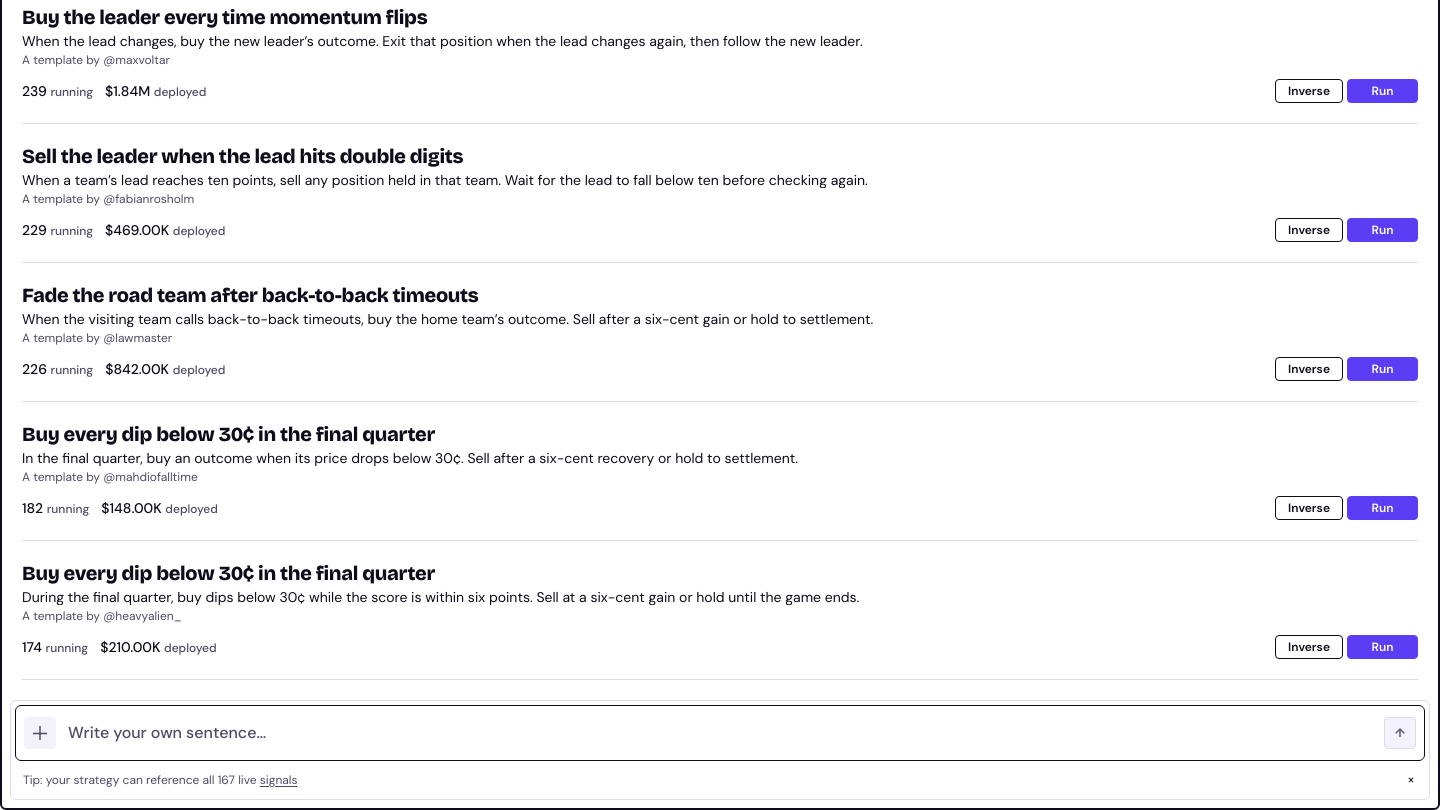
Scenario: Kyros chat › retains the user message on failure and retries without duplicating it
(page scrolled)
In the field named "Message Kyros": (720, 733) [68,724,1372,742], type "Hello"
Then press Enter
(page scrolled)
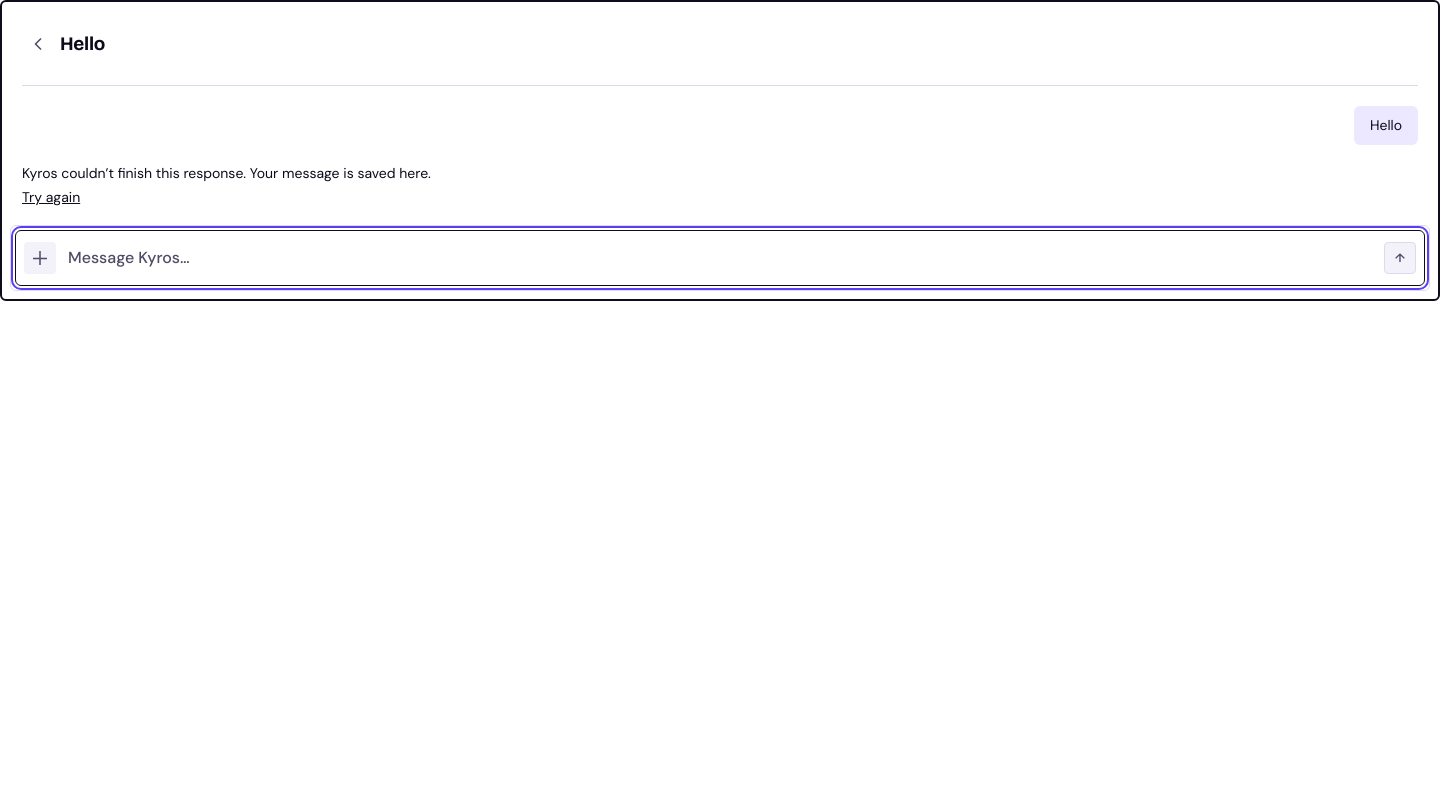
Expected: the message shows "couldn’t finish", [22,164,431,182]
Click the button "Try again": click(51, 197) [22,189,80,205]
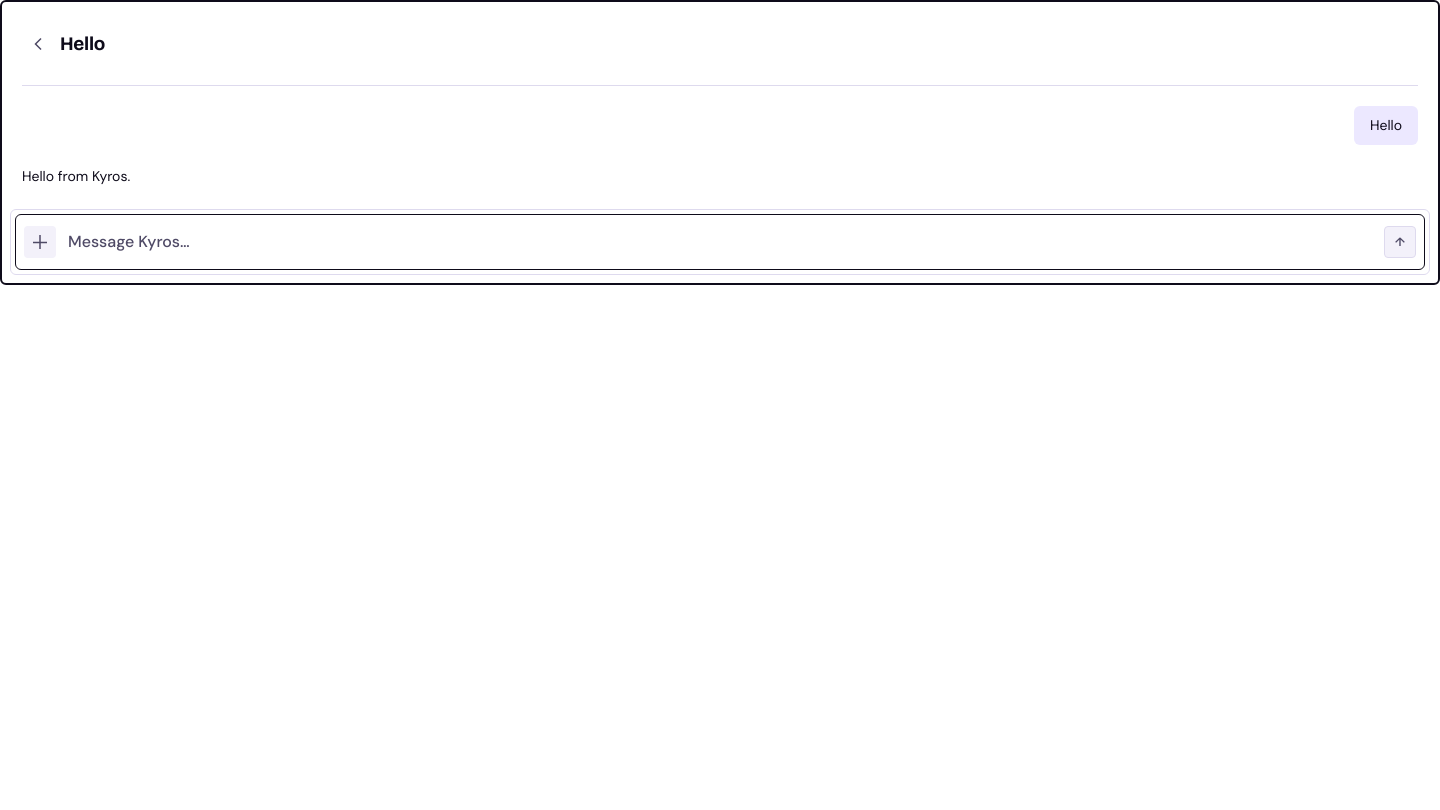
Expected: the number of elements named "You" is 1, [1354,106,1418,145]
Expected: the text "Hello from Kyros." is shown, [22,167,130,185]
